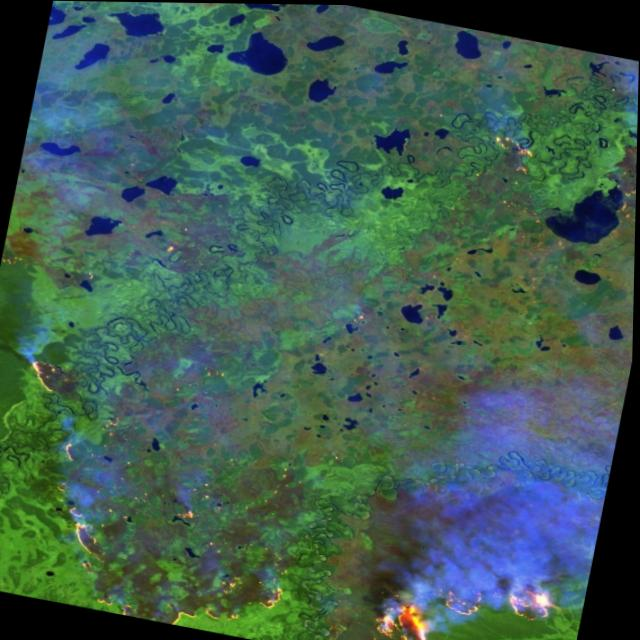fire: (0, 344, 616, 640), (464, 116, 556, 196), (619, 110, 638, 177)
